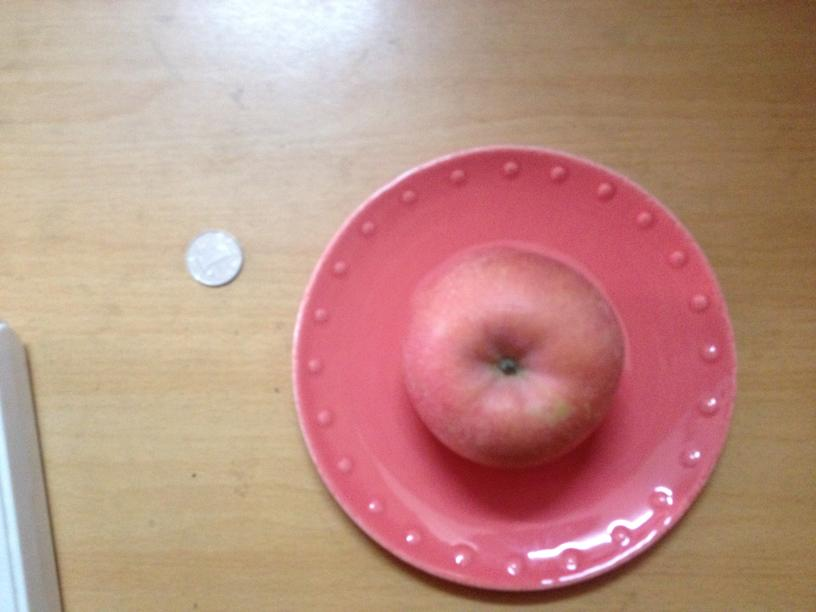apple: (407, 253, 624, 466)
coin: (184, 231, 242, 286)
